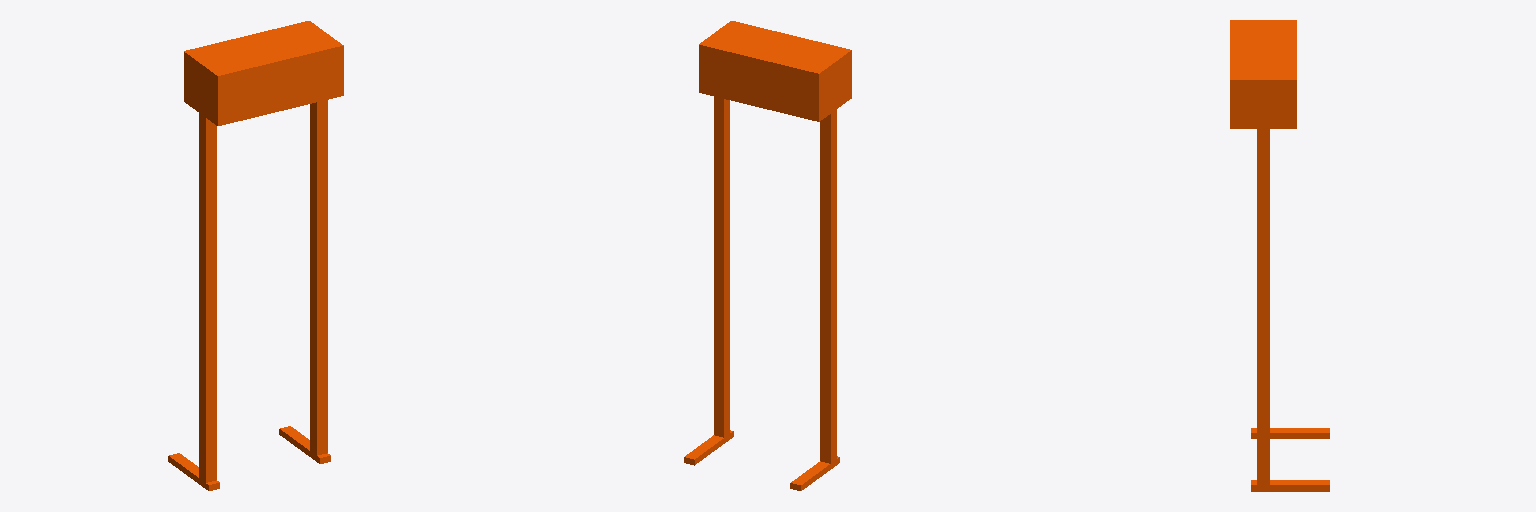
robot.urdf — legs:
<?xml version="1.0" ?>
<!-- =================================================================================== -->
<!-- |    This document was autogenerated by xacro from legs.xacro                     | -->
<!-- |    EDITING THIS FILE BY HAND IS NOT RECOMMENDED                                 | -->
<!-- =================================================================================== -->
<robot name="legs" xmlns:xacro="http://www.ros.org/wiki/xacro">
  <!-- In N*m -->
  <!-- <0.001 doesn't work -->
  <!-- ros_control plugin -->
  <gazebo>
    <plugin filename="libgazebo_ros_control.so" name="gazebo_ros_control">
      <robotNamespace>/legs</robotNamespace>
      <robotSimType>gazebo_ros_control/DefaultRobotHWSim</robotSimType>
    </plugin>
  </gazebo>
  <!-- Bumpers plugins -->
  <gazebo reference="left_foot">
    <sensor name="contact_sensor" type="contact">
      <always_on>true</always_on>
      <update_rate>10</update_rate>
      <contact>
        <collision>left_foot_collision</collision>
        <topic>/left_foot_contact</topic>
      </contact>
      <plugin filename="libgazebo_ros_bumper.so" name="left_foot">
        <frameName>left_foot</frameName>
        <bumperTopicName>/legs/bumper/left_foot</bumperTopicName>
      </plugin>
    </sensor>
  </gazebo>
  <gazebo reference="right_foot">
    <sensor name="contact_sensor" type="contact">
      <always_on>true</always_on>
      <update_rate>10</update_rate>
      <contact>
        <collision>right_foot_collision</collision>
        <topic>/right_foot_contact</topic>
      </contact>
      <plugin filename="libgazebo_ros_bumper.so" name="right_foot">
        <frameName>right_foot</frameName>
        <bumperTopicName>/legs/bumper/right_foot</bumperTopicName>
      </plugin>
    </sensor>
  </gazebo>
  <!-- Starting position -->
  <gazebo>
    <static> false </static>
    <pose> 0 0 0.482 0 0 0 </pose>
  </gazebo>
  <!-- Links -->
  <gazebo reference="body">
    <material>Gazebo/Orange</material>
  </gazebo>
  <gazebo reference="left_upper_leg">
    <mu1>0.2</mu1>
    <mu2>0.2</mu2>
    <material>Gazebo/Orange</material>
  </gazebo>
  <gazebo reference="left_lower_leg">
    <mu1>0.2</mu1>
    <mu2>0.2</mu2>
    <material>Gazebo/Orange</material>
  </gazebo>
  <gazebo reference="left_foot">
    <mu1>2.0</mu1>
    <mu2>2.0</mu2>
    <material>Gazebo/Orange</material>
  </gazebo>
  <gazebo reference="right_upper_leg">
    <mu1>0.2</mu1>
    <mu2>0.2</mu2>
    <material>Gazebo/Orange</material>
  </gazebo>
  <gazebo reference="right_lower_leg">
    <mu1>0.2</mu1>
    <mu2>0.2</mu2>
    <material>Gazebo/Orange</material>
  </gazebo>
  <gazebo reference="right_foot">
    <mu1>2.0</mu1>
    <mu2>2.0</mu2>
    <material>Gazebo/Orange</material>
  </gazebo>
  <material name="black">
    <color rgba="0.0 0.0 0.0 1.0"/>
  </material>
  <material name="blue">
    <color rgba="0.0 0.0 0.8 1.0"/>
  </material>
  <material name="green">
    <color rgba="0.0 0.8 0.0 1.0"/>
  </material>
  <material name="grey">
    <color rgba="0.2 0.2 0.2 1.0"/>
  </material>
  <material name="orange">
    <color rgba="1.0 0.423529411765 0.0392156862745 1.0"/>
  </material>
  <material name="brown">
    <color rgba="0.870588235294 0.811764705882 0.764705882353 1.0"/>
  </material>
  <material name="red">
    <color rgba="0.8 0.0 0.0 1.0"/>
  </material>
  <material name="white">
    <color rgba="1.0 1.0 1.0 1.0"/>
  </material>
  <!-- 
		Macros
	 -->
  <!-- 
		World
	-->
  <!-- <link name="legs_global"/> -->
  <!-- 
		Left Leg
	-->
  <!-- Creates the link -->
  <link name="left_foot">
    <collision>
      <origin rpy="0 -1.57079632679 0" xyz="0.004 0.0325 0"/>
      <geometry>
        <box size="0.015 0.095 0.008"/>
      </geometry>
    </collision>
    <visual>
      <origin rpy="0 -1.57079632679 0" xyz="0.004 0.0325 0"/>
      <geometry>
        <box size="0.015 0.095 0.008"/>
      </geometry>
      <material name="orange"/>
    </visual>
    <inertial>
      <origin rpy="0 -1.57079632679 0" xyz="0.004 0.0325 0"/>
      <mass value="0.0296"/>
      <inertia ixx="0.002" ixy="0.0" ixz="0.0" iyy="0.002" iyz="0.0" izz="0.002"/>
    </inertial>
  </link>
  <!-- Creates the link -->
  <link name="left_lower_leg">
    <collision>
      <origin rpy="0 -1.57079632679 0" xyz="0.106 0 0"/>
      <geometry>
        <box size="0.015 0.015 0.212"/>
      </geometry>
    </collision>
    <visual>
      <origin rpy="0 -1.57079632679 0" xyz="0.106 0 0"/>
      <geometry>
        <box size="0.015 0.015 0.212"/>
      </geometry>
      <material name="orange"/>
    </visual>
    <inertial>
      <origin rpy="0 -1.57079632679 0" xyz="0.106 0 0"/>
      <mass value="0.17"/>
      <inertia ixx="0.002" ixy="0.0" ixz="0.0" iyy="0.002" iyz="0.0" izz="0.002"/>
    </inertial>
  </link>
  <!-- Creates the link -->
  <link name="left_upper_leg">
    <collision>
      <origin rpy="0 -1.57079632679 0" xyz="0.131 0 0"/>
      <geometry>
        <box size="0.015 0.015 0.262"/>
      </geometry>
    </collision>
    <visual>
      <origin rpy="0 -1.57079632679 0" xyz="0.131 0 0"/>
      <geometry>
        <box size="0.015 0.015 0.262"/>
      </geometry>
      <material name="orange"/>
    </visual>
    <inertial>
      <origin rpy="0 -1.57079632679 0" xyz="0.131 0 0"/>
      <mass value="0.163"/>
      <inertia ixx="0.002" ixy="0.0" ixz="0.0" iyy="0.002" iyz="0.0" izz="0.002"/>
    </inertial>
  </link>
  <!-- Creates the link -->
  <link name="right_foot">
    <collision>
      <origin rpy="0 -1.57079632679 0" xyz="0.004 0.0325 0"/>
      <geometry>
        <box size="0.015 0.095 0.008"/>
      </geometry>
    </collision>
    <visual>
      <origin rpy="0 -1.57079632679 0" xyz="0.004 0.0325 0"/>
      <geometry>
        <box size="0.015 0.095 0.008"/>
      </geometry>
      <material name="orange"/>
    </visual>
    <inertial>
      <origin rpy="0 -1.57079632679 0" xyz="0.004 0.0325 0"/>
      <mass value="0.0296"/>
      <inertia ixx="0.002" ixy="0.0" ixz="0.0" iyy="0.002" iyz="0.0" izz="0.002"/>
    </inertial>
  </link>
  <!-- Creates the link -->
  <link name="right_lower_leg">
    <collision>
      <origin rpy="0 -1.57079632679 0" xyz="0.106 0 0"/>
      <geometry>
        <box size="0.015 0.015 0.212"/>
      </geometry>
    </collision>
    <visual>
      <origin rpy="0 -1.57079632679 0" xyz="0.106 0 0"/>
      <geometry>
        <box size="0.015 0.015 0.212"/>
      </geometry>
      <material name="orange"/>
    </visual>
    <inertial>
      <origin rpy="0 -1.57079632679 0" xyz="0.106 0 0"/>
      <mass value="0.17"/>
      <inertia ixx="0.002" ixy="0.0" ixz="0.0" iyy="0.002" iyz="0.0" izz="0.002"/>
    </inertial>
  </link>
  <!-- Creates the link -->
  <link name="right_upper_leg">
    <collision>
      <origin rpy="0 -1.57079632679 0" xyz="0.131 0 0"/>
      <geometry>
        <box size="0.015 0.015 0.262"/>
      </geometry>
    </collision>
    <visual>
      <origin rpy="0 -1.57079632679 0" xyz="0.131 0 0"/>
      <geometry>
        <box size="0.015 0.015 0.262"/>
      </geometry>
      <material name="orange"/>
    </visual>
    <inertial>
      <origin rpy="0 -1.57079632679 0" xyz="0.131 0 0"/>
      <mass value="0.163"/>
      <inertia ixx="0.002" ixy="0.0" ixz="0.0" iyy="0.002" iyz="0.0" izz="0.002"/>
    </inertial>
  </link>
  <!-- Creates the link -->
  <link name="body">
    <collision>
      <origin rpy="0 0 0" xyz="0 0 0.0325"/>
      <geometry>
        <box size="0.17 0.08 0.065"/>
      </geometry>
    </collision>
    <visual>
      <origin rpy="0 0 0" xyz="0 0 0.0325"/>
      <geometry>
        <box size="0.17 0.08 0.065"/>
      </geometry>
      <material name="orange"/>
    </visual>
    <inertial>
      <origin rpy="0 0 0" xyz="0 0 0.0325"/>
      <mass value="0.45"/>
      <inertia ixx="0.002" ixy="0.0" ixz="0.0" iyy="0.002" iyz="0.0" izz="0.002"/>
    </inertial>
  </link>
  <!-- 
    Virtual links
  -->
  <link name="world"/>
  <link name="plane_x">
    <inertial>
      <mass value="2e-06"/>
      <inertia ixx="1.1e-09" ixy="0" ixz="0" iyy="1.1e-09" iyz="0" izz="1.1e-09"/>
    </inertial>
  </link>
  <!-- 
		Joints 
	-->
  <joint name="world_plane_x" type="planar">
    <parent link="world"/>
    <child link="plane_x"/>
    <origin rpy="0 0 0" xyz="0 0 0.482"/>
    <axis xyz="1 0 0"/>
  </joint>
  <joint name="plane_x_body" type="continuous">
    <parent link="plane_x"/>
    <child link="body"/>
    <origin rpy="0 0 0" xyz="0 0 0"/>
    <axis xyz="1 0 0"/>
  </joint>
  <joint name="left_hip" type="revolute">
    <parent link="body"/>
    <child link="left_upper_leg"/>
    <origin rpy="0 1.57079632679 0" xyz="-0.075 0 0"/>
    <axis xyz="0 0 1"/>
    <limit effort="10" lower="-1.3962634016" upper="1.3962634016" velocity="10"/>
    <dynamics damping="0.7"/>
  </joint>
  <joint name="left_knee" type="revolute">
    <parent link="left_upper_leg"/>
    <child link="left_lower_leg"/>
    <origin rpy="0 0 0" xyz="0.262 0 0"/>
    <axis xyz="0 0 1"/>
    <limit effort="10" lower="-2.61799387799" upper="0.0" velocity="10"/>
    <dynamics damping="0.7"/>
  </joint>
  <joint name="left_ankle" type="revolute">
    <parent link="left_lower_leg"/>
    <child link="left_foot"/>
    <origin rpy="0 0 0" xyz="0.212 0 0"/>
    <axis xyz="0 0 1"/>
    <limit effort="10" lower="-0.907571211037" upper="0.663225115758" velocity="10"/>
    <dynamics damping="0.7"/>
  </joint>
  <joint name="right_hip" type="revolute">
    <parent link="body"/>
    <child link="right_upper_leg"/>
    <origin rpy="0 1.57079632679 0" xyz="0.075 0 0"/>
    <axis xyz="0 0 1"/>
    <limit effort="10" lower="-1.3962634016" upper="1.3962634016" velocity="10"/>
    <dynamics damping="0.7"/>
  </joint>
  <joint name="right_knee" type="revolute">
    <parent link="right_upper_leg"/>
    <child link="right_lower_leg"/>
    <origin rpy="0 0 0" xyz="0.262 0 0"/>
    <axis xyz="0 0 1"/>
    <limit effort="10" lower="-2.61799387799" upper="0.0" velocity="10"/>
    <dynamics damping="0.7"/>
  </joint>
  <joint name="right_ankle" type="revolute">
    <parent link="right_lower_leg"/>
    <child link="right_foot"/>
    <origin rpy="0 0 0" xyz="0.212 0 0"/>
    <axis xyz="0 0 1"/>
    <limit effort="10" lower="-0.907571211037" upper="0.663225115758" velocity="10"/>
    <dynamics damping="0.7"/>
  </joint>
  <transmission name="left_hip_trans">
    <type>transmission_interface/SimpleTransmission</type>
    <joint name="left_hip">
      <hardwareInterface>EffortJointInterface</hardwareInterface>
    </joint>
    <actuator name="left_hip_motor">
      <hardwareInterface>EffortJointInterface</hardwareInterface>
      <mechanicalReduction>1.0787315</mechanicalReduction>
    </actuator>
  </transmission>
  <transmission name="left_knee_trans">
    <type>transmission_interface/SimpleTransmission</type>
    <joint name="left_knee">
      <hardwareInterface>EffortJointInterface</hardwareInterface>
    </joint>
    <actuator name="left_knee_motor">
      <hardwareInterface>EffortJointInterface</hardwareInterface>
      <mechanicalReduction>1.0787315</mechanicalReduction>
    </actuator>
  </transmission>
  <transmission name="left_ankle_trans">
    <type>transmission_interface/SimpleTransmission</type>
    <joint name="left_ankle">
      <hardwareInterface>EffortJointInterface</hardwareInterface>
    </joint>
    <actuator name="left_ankle_motor">
      <hardwareInterface>EffortJointInterface</hardwareInterface>
      <mechanicalReduction>1.0787315</mechanicalReduction>
    </actuator>
  </transmission>
  <transmission name="right_hip_trans">
    <type>transmission_interface/SimpleTransmission</type>
    <joint name="right_hip">
      <hardwareInterface>EffortJointInterface</hardwareInterface>
    </joint>
    <actuator name="right_hip_motor">
      <hardwareInterface>EffortJointInterface</hardwareInterface>
      <mechanicalReduction>1.0787315</mechanicalReduction>
    </actuator>
  </transmission>
  <transmission name="right_knee_trans">
    <type>transmission_interface/SimpleTransmission</type>
    <joint name="right_knee">
      <hardwareInterface>EffortJointInterface</hardwareInterface>
    </joint>
    <actuator name="right_knee_motor">
      <hardwareInterface>EffortJointInterface</hardwareInterface>
      <mechanicalReduction>1.0787315</mechanicalReduction>
    </actuator>
  </transmission>
  <transmission name="right_ankle_trans">
    <type>transmission_interface/SimpleTransmission</type>
    <joint name="right_ankle">
      <hardwareInterface>EffortJointInterface</hardwareInterface>
    </joint>
    <actuator name="right_ankle_motor">
      <hardwareInterface>EffortJointInterface</hardwareInterface>
      <mechanicalReduction>1.0787315</mechanicalReduction>
    </actuator>
  </transmission>
  <!-- Rotational robot holder -->
  <!-- 
  <xacro:property name="rotational_robot_holder_base_length_extra" value="0" />
  <xacro:if value="${robot_floating is 1}">
    <xacro:property name="rotational_robot_holder_base_length_extra" value="0.1" />
  </xacro:if>
  <xacro:property name="rotational_robot_holder_base_length" value="${(footHeight + lowerLegHeight + upperLegHeight + rotational_robot_holder_base_length_extra)*scale}" />
  <xacro:property name="rotational_robot_holder_base_radius" value="${0.2*scale}" />
  <xacro:property name="rotational_robot_holder_holder_radius" value="${0.01*scale}" />
  <xacro:property name="rotational_robot_holder_holder_length" value="${2*scale}" />
  <link name="rotational_robot_holder_base">
    <collision>
      <origin xyz="0 0 0" rpy="0 0 0"/>
      <geometry>
        <cylinder length="${rotational_robot_holder_base_length}" radius="${rotational_robot_holder_base_radius}"/>
      </geometry>
    </collision>

    <visual>
      <origin xyz="0 0 0" rpy="0 0 0"/>
      <geometry>
        <cylinder length="${rotational_robot_holder_base_length}" radius="${rotational_robot_holder_base_radius}"/>
      </geometry>
      <material name="orange"/>
    </visual>

    <inertial>
      <mass value="10"/>
      <inertia ixx="0.4" ixy="0.0" ixz="0.0" iyy="0.4" iyz="0.0" izz="0.2"/>
    </inertial>

  </link>

  <link name="rotational_robot_holder_virtual">
    <collision>
      <origin xyz="0 0 0" rpy="0 0 0"/>
      <geometry>
        <sphere radius="0.01"/>
      </geometry>
    </collision>

    <visual>
      <origin xyz="0 0 0" rpy="0 0 0"/>
      <geometry>
         <sphere radius="0.01"/>
      </geometry>
      <material name="orange"/>
    </visual>

    <inertial>
      <mass value="0.01"/>
      <inertia ixx="0.1" ixy="0.0" ixz="0.0" iyy="0.1" iyz="0.0" izz="0.1"/>
    </inertial>
    
  </link>

  <link name="rotational_robot_holder_holder">
    <collision>
      <origin xyz="${rotational_robot_holder_holder_length/2} 0 0" rpy="0 ${PI/2} 0"/>
      <geometry>
        <cylinder length="${rotational_robot_holder_holder_length}" radius="${rotational_robot_holder_holder_radius}"/>
      </geometry>
    </collision>

    <visual>
      <origin xyz="${rotational_robot_holder_holder_length/2} 0 0" rpy="0 ${PI/2} 0"/>
      <geometry>
         <cylinder length="${rotational_robot_holder_holder_length}" radius="${rotational_robot_holder_holder_radius}"/>
      </geometry>
      <material name="orange"/>
    </visual>

    <inertial>
      <mass value="0.01"/>
      <inertia ixx="0.1" ixy="0.0" ixz="0.0" iyy="0.1" iyz="0.0" izz="0.1"/>
    </inertial>
    
  </link>


  <joint name="rotational_robot_holder_base_to_world" type="fixed">
    <parent link="world"/>
    <child link="rotational_robot_holder_base"/>
    <origin xyz="0 0 ${rotational_robot_holder_base_length/2}" rpy="0 0 0"/>
  </joint>


  <xacro:if value="${robot_floating is 1}">
    <joint name="rotational_robot_holder_virtual_to_holder" type="fixed">
      <parent link="rotational_robot_holder_base"/>
      <child link="rotational_robot_holder_virtual"/>
    </joint> 

    <joint name="rotational_robot_holder_joint" type="fixed">
      <parent link="rotational_robot_holder_virtual"/>
      <child link="rotational_robot_holder_holder"/>
      <origin xyz="0 0 ${rotational_robot_holder_base_length/2}" rpy="0 0 0"/>
    </joint>
  </xacro:if>

  <xacro:if value="${robot_floating is 0}">
    <joint name="rotational_robot_holder_virtual_to_holder" type="continuous">
      <parent link="rotational_robot_holder_base"/>
      <child link="rotational_robot_holder_virtual"/>
      <origin xyz="0 0 0" rpy="0 0 0"/>
      <axis xyz="0 1 0"/>
      <dynamics damping="0.7"/>
    </joint> 

    <joint name="rotational_robot_holder_joint" type="continuous">
      <parent link="rotational_robot_holder_virtual"/>
      <child link="rotational_robot_holder_holder"/>
      <origin xyz="0 0 ${rotational_robot_holder_base_length/2}" rpy="0 0 0"/>
      <axis xyz="0 0 1"/>
      <dynamics damping="0.7"/>
    </joint>
  </xacro:if>

  <joint name="rotational_robot_holder_to_rotot" type="fixed">
    <parent link="rotational_robot_holder_holder"/>
    <child link="body"/>
    <origin xyz="${rotational_robot_holder_holder_length+bodyWidth/2} 0 0" rpy="0 0 0"/>
    <axis xyz="0 0 1"/>
    <limit effort="30" velocity="1.0" lower="0" upper="1" />
  </joint> 
 -->
</robot>

--- Facts derived from the render (not from the file) ---
3 views of the same robot in one strip: view 1: azimuth 30°, elevation 25°; view 2: azimuth 150°, elevation 25°; view 3: azimuth 270°, elevation 25° (orthographic).
Robot: legs — 9 links, 8 joints (6 revolute, 1 continuous, 1 planar); root link world; default pose: all joints at 0.
Visible links, largest first — view 1: body, left_upper_leg, right_upper_leg, left_lower_leg, right_lower_leg, left_foot, right_foot; view 2: body, left_upper_leg, right_upper_leg, left_lower_leg, right_lower_leg, right_foot, left_foot; view 3: body, right_upper_leg, right_lower_leg, right_foot, left_foot.
Boxes of the visible links, left/top/right/bottom form: body: left=184, top=21, right=343, bottom=125; left_upper_leg: left=199, top=113, right=216, bottom=318; right_upper_leg: left=310, top=100, right=327, bottom=291; left_lower_leg: left=199, top=314, right=216, bottom=482; right_lower_leg: left=310, top=287, right=327, bottom=455; left_foot: left=168, top=453, right=219, bottom=490; right_foot: left=279, top=426, right=330, bottom=463; body: left=699, top=21, right=851, bottom=121; left_upper_leg: left=820, top=109, right=836, bottom=305; right_upper_leg: left=714, top=97, right=729, bottom=279; left_lower_leg: left=820, top=302, right=836, bottom=463; right_lower_leg: left=714, top=277, right=729, bottom=437; right_foot: left=684, top=430, right=733, bottom=465; left_foot: left=790, top=456, right=839, bottom=490; body: left=1230, top=20, right=1296, bottom=128; right_upper_leg: left=1257, top=129, right=1269, bottom=325; right_lower_leg: left=1257, top=326, right=1269, bottom=484; right_foot: left=1251, top=480, right=1329, bottom=491; left_foot: left=1251, top=428, right=1329, bottom=438.
Size in the robot's own frame: 0.17 by 0.12 by 0.547 metres.
Geometry: primitives only (box / cylinder / sphere), no mesh files.